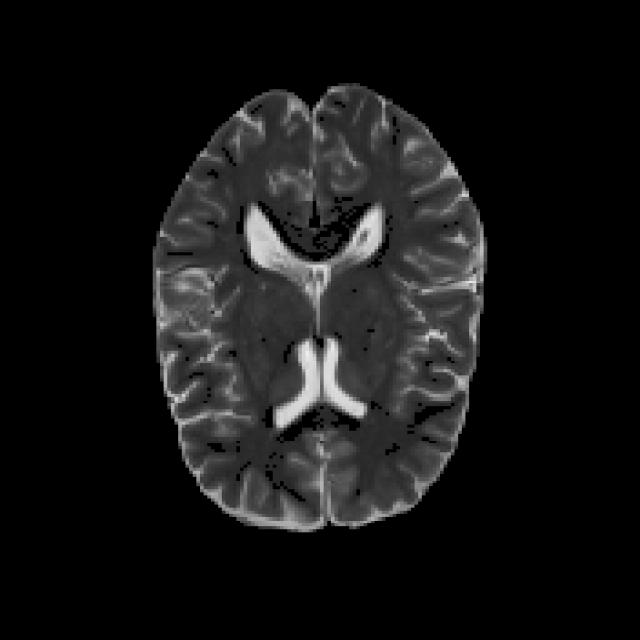parkinson: (149, 80, 487, 532)
